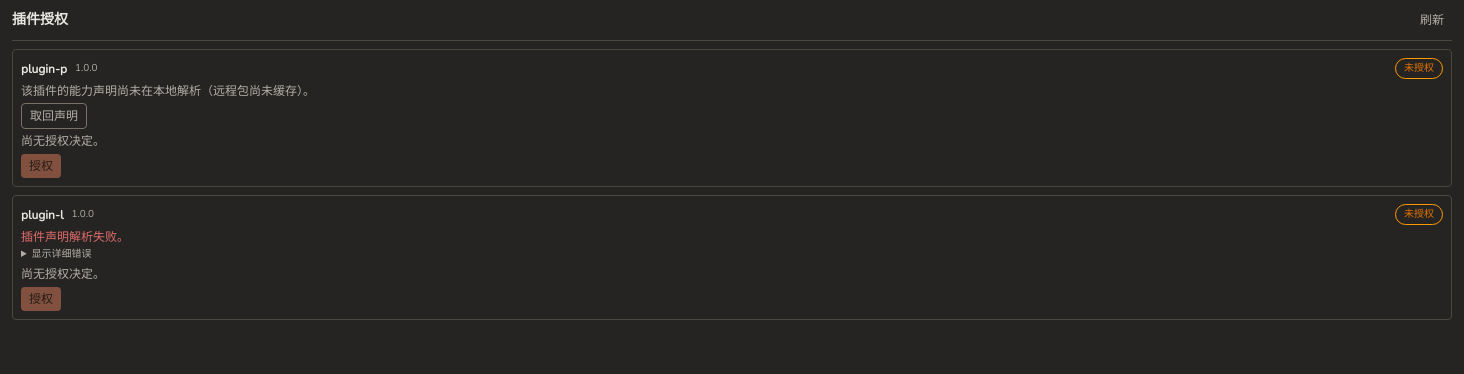
Test: PluginsPage — 真机走查抓到的缺陷 › F1: a plain fetch failure and a declaration-load failure fold their chains the same way
Expected: the text "插件声明解析失败。" is shown, 21,229 -> 129,245
Expected: the heading "显示详细错误" is shown, 32,247 -> 92,261
Click the button "取回声明" at (54, 116), box 21,103 -> 87,129
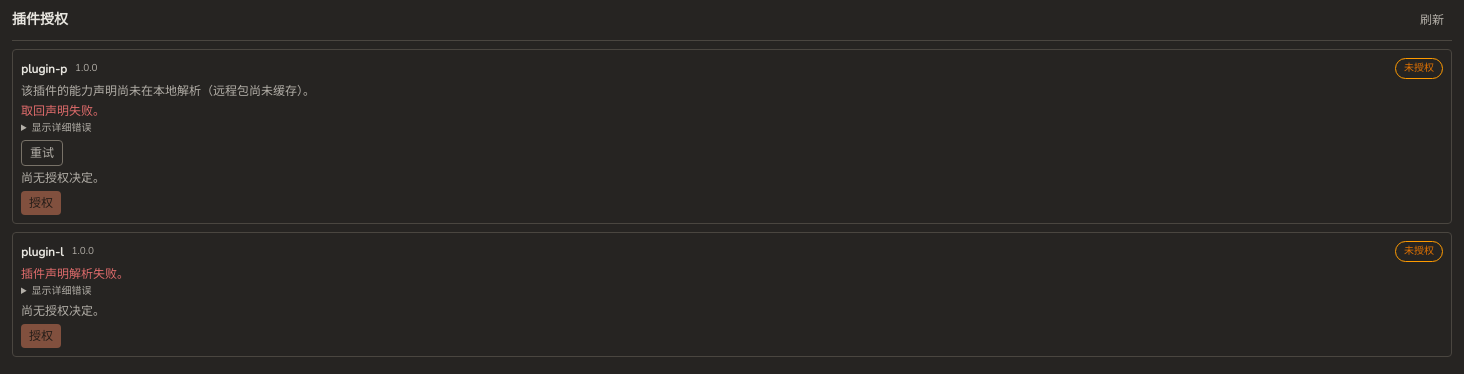
Expected: the text "取回声明失败。" is shown, 21,103 -> 105,119
Expected: the button "重试" is shown, 21,140 -> 63,166
